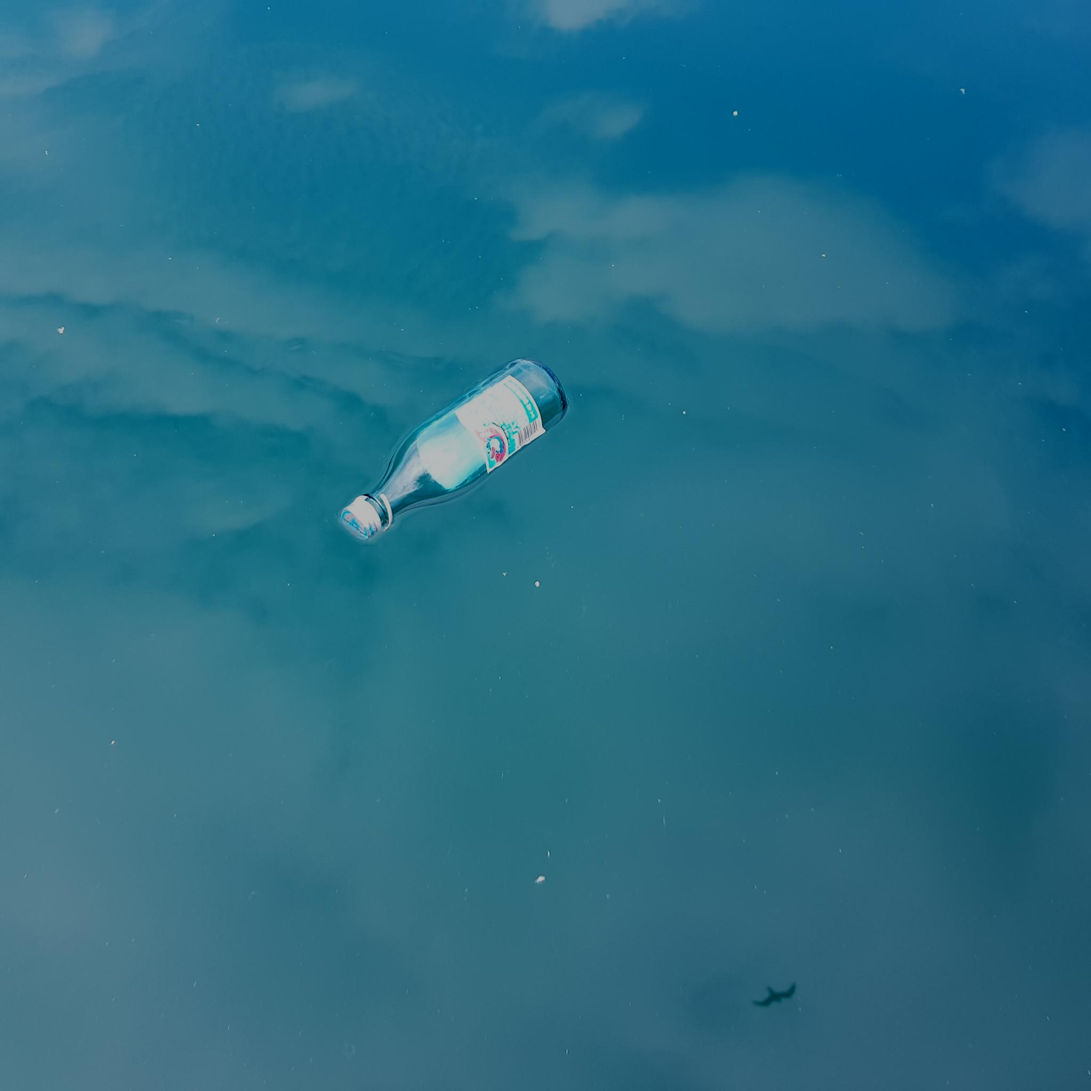sampah_terapung: (341, 357, 568, 542)
